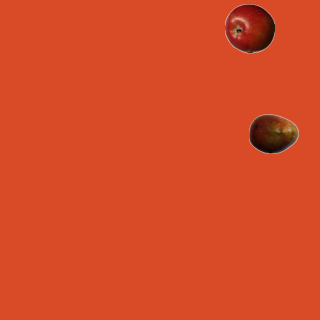Apple Braeburn: (224, 3, 274, 53)
Mango Red: (248, 108, 298, 158)
